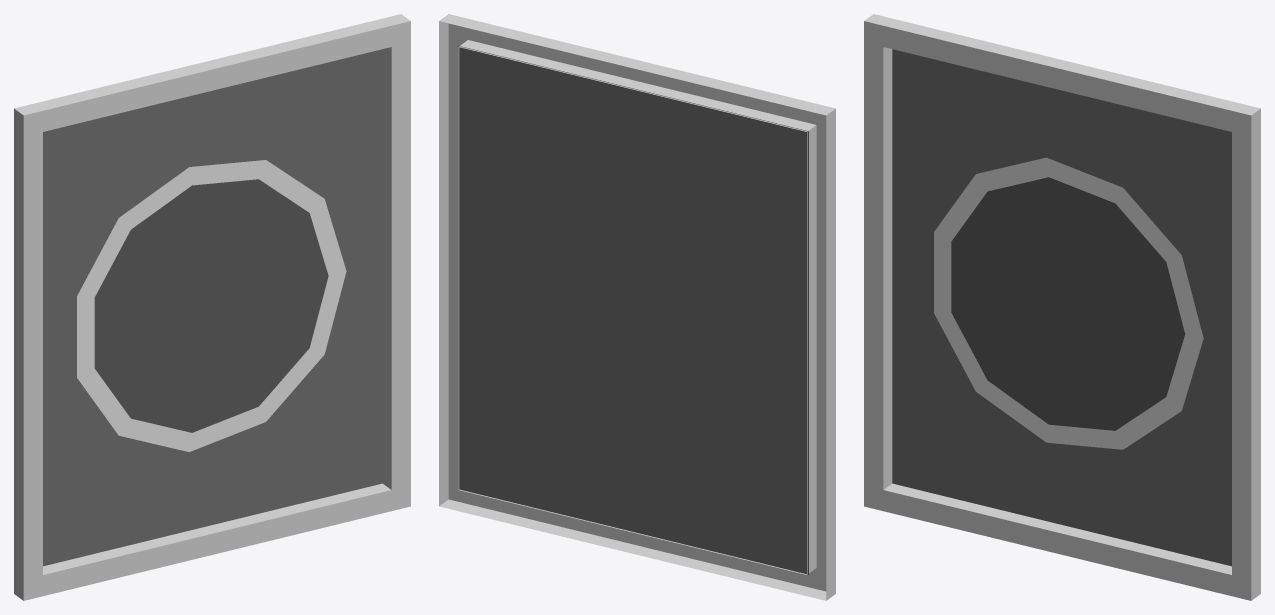
File: picture_019.glb
The picture shows the model from 3 angles, left to right: view 1: azimuth 30°, elevation 25°; view 2: azimuth 150°, elevation 25°; view 3: azimuth 330°, elevation 25°; orthographic projection.
Parts seen in each view (by area): view 1: picture_019; view 2: picture_019; view 3: picture_019.
Boxes of the visible parts, bbox=[...] form: picture_019: bbox=[14, 14, 410, 600]; picture_019: bbox=[439, 14, 835, 600]; picture_019: bbox=[864, 14, 1260, 600].
Size of the model in its own units: 0.7169 by 0.8589 by 0.031.
Materials: 1 (1 with a texture image).
